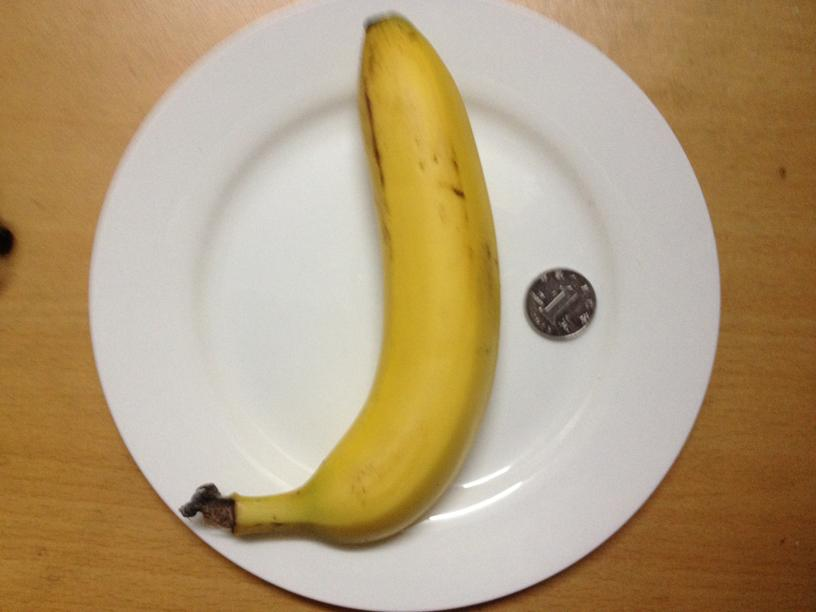banana: (268, 15, 503, 546)
coin: (521, 269, 597, 338)
